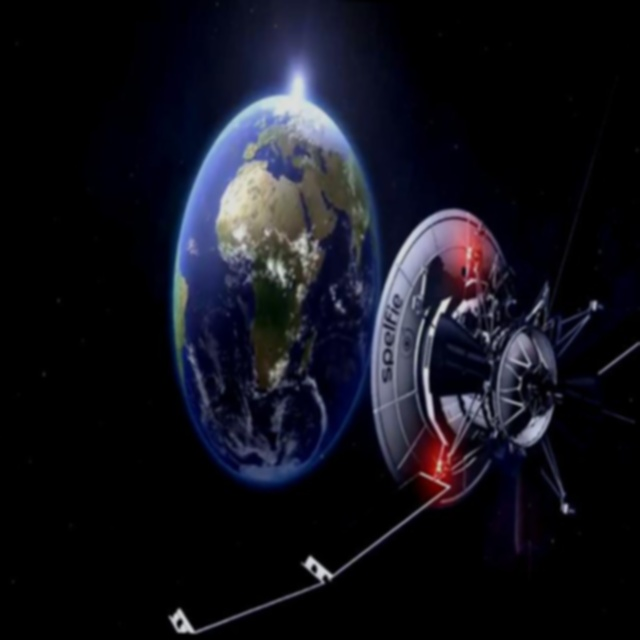medium_debris: (178, 126, 640, 640)
